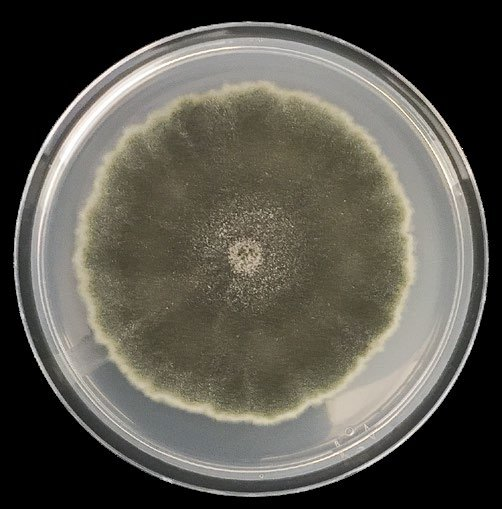Alternaria: (119, 117, 368, 381)
